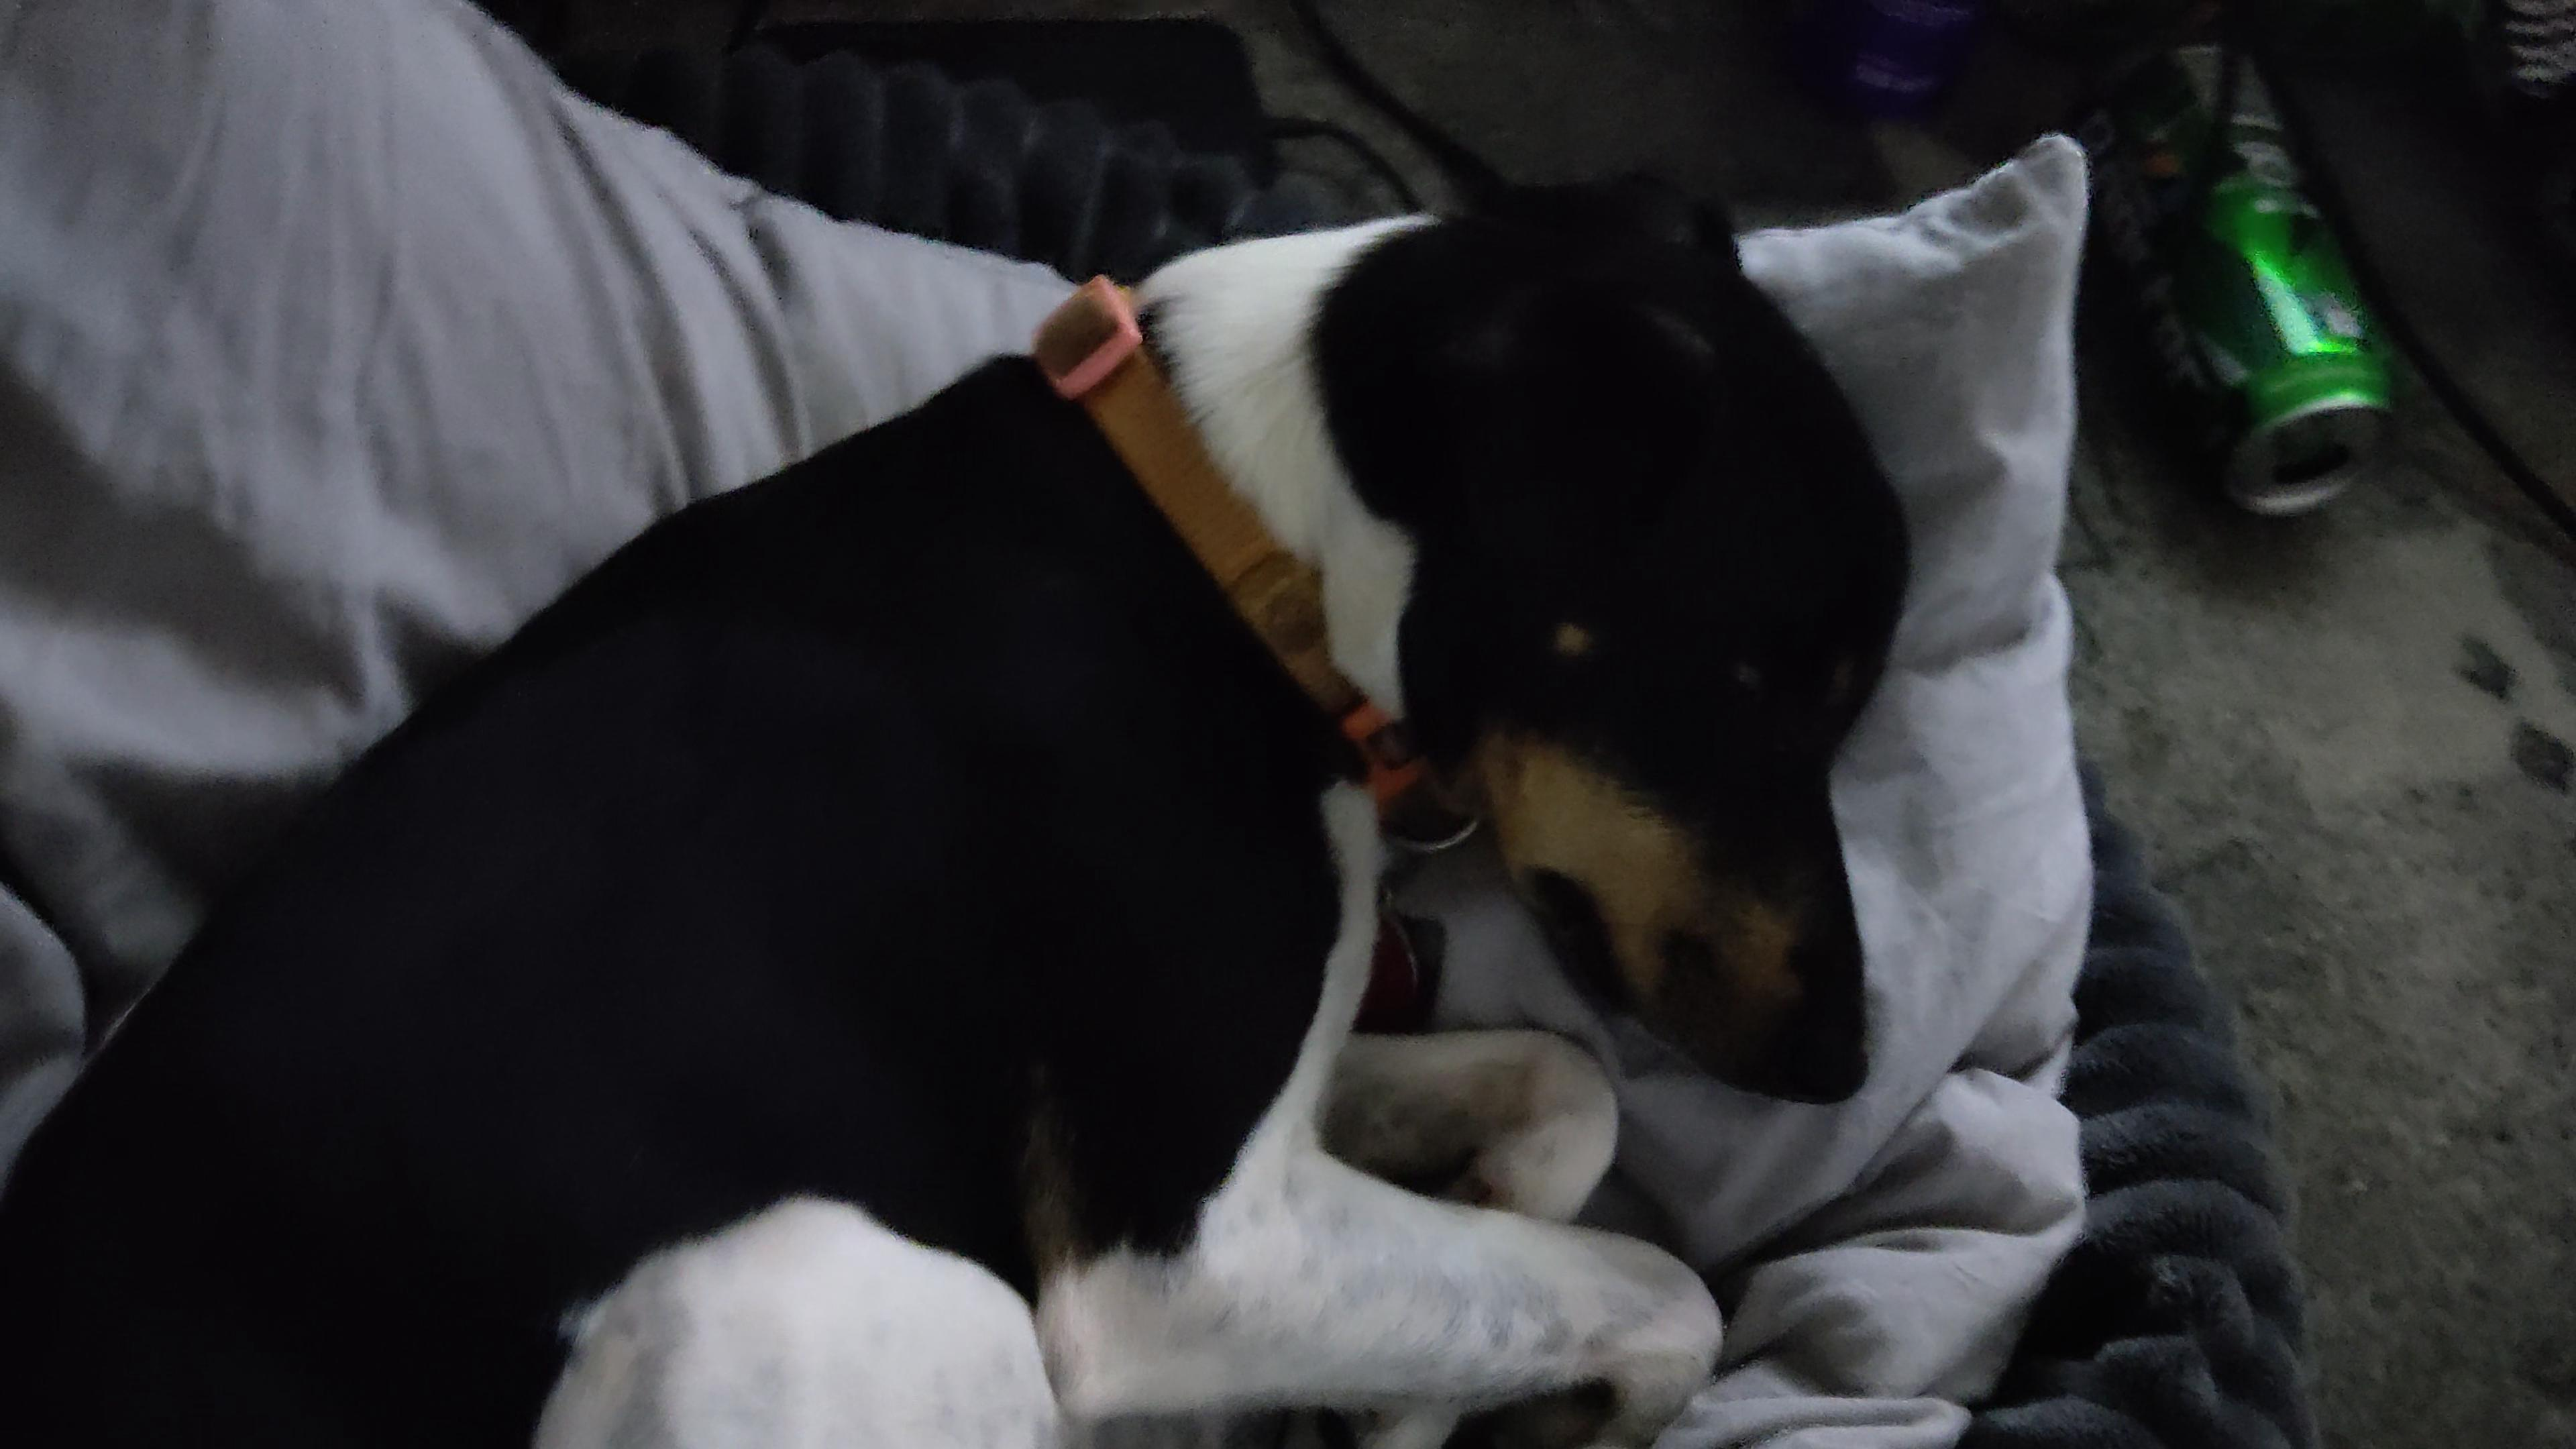Dog: (0, 145, 1990, 1449)
